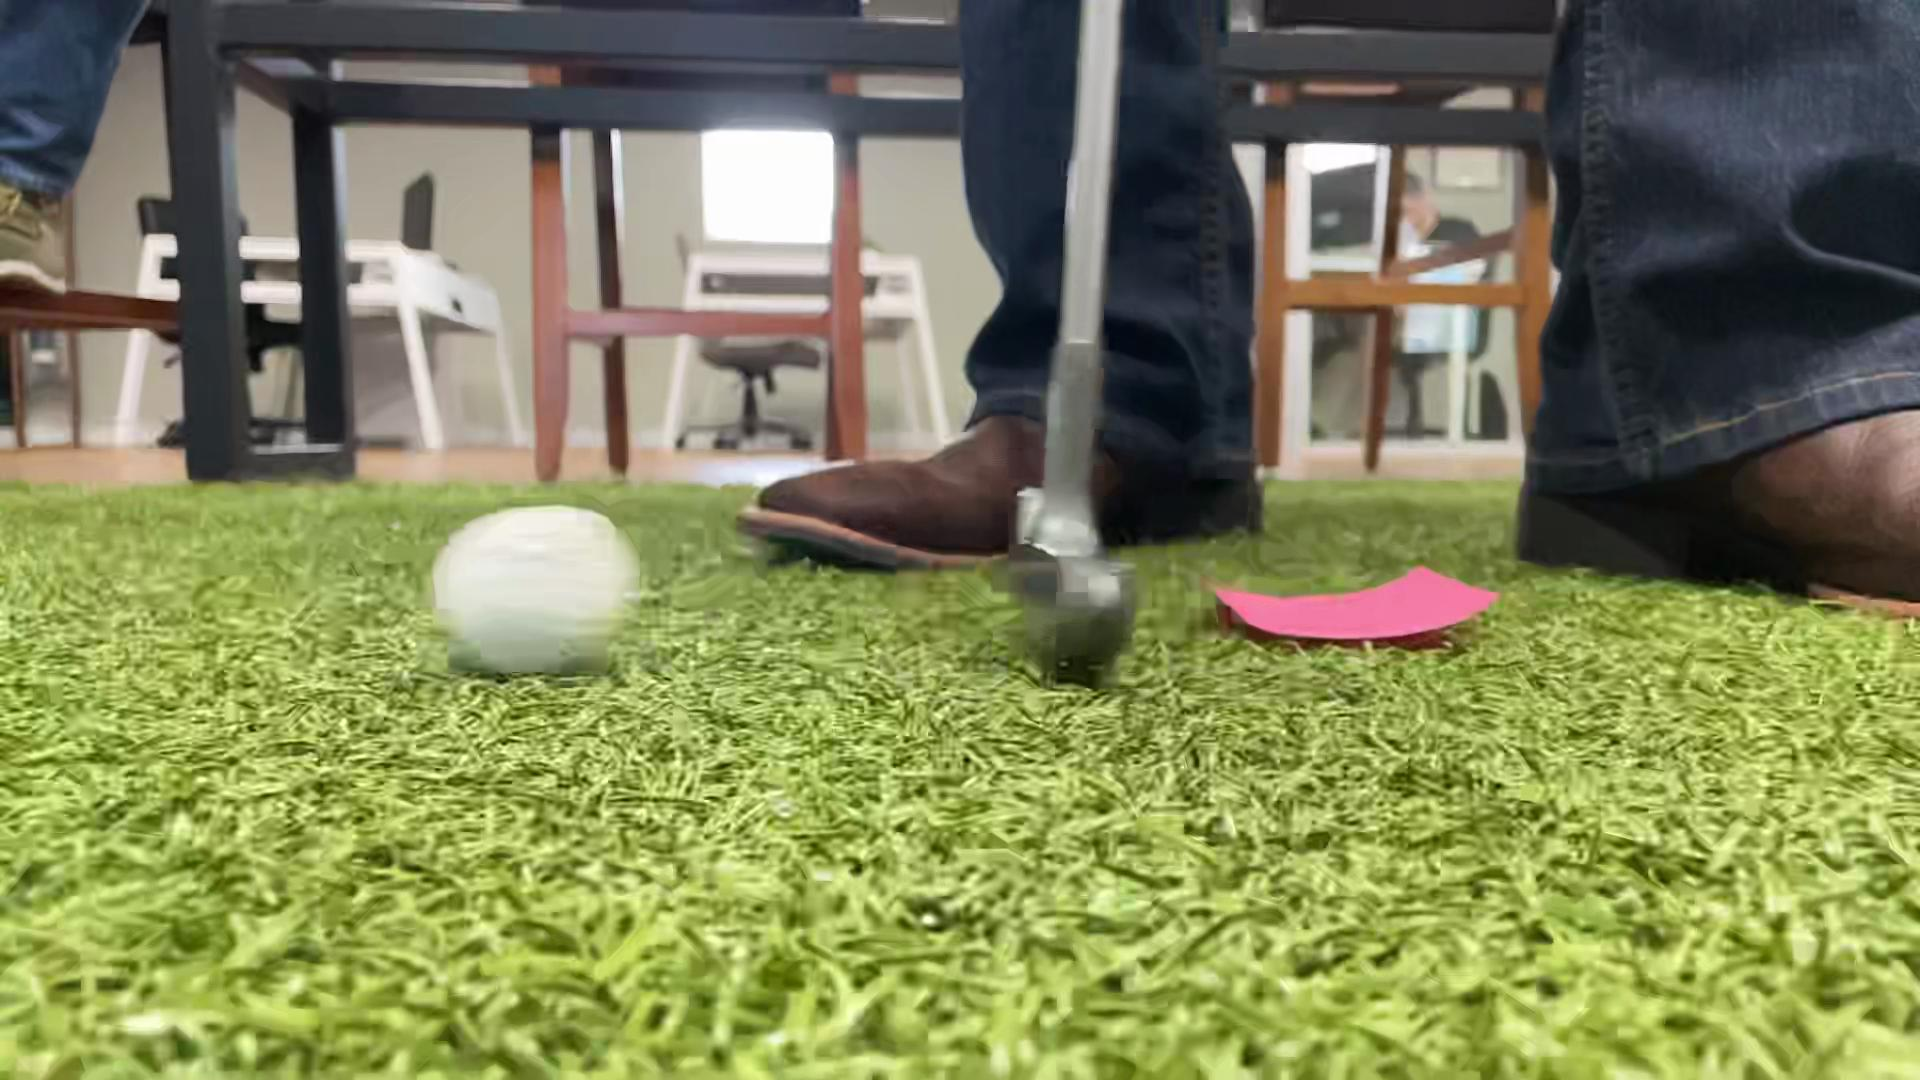golfball: (427, 506, 642, 675)
